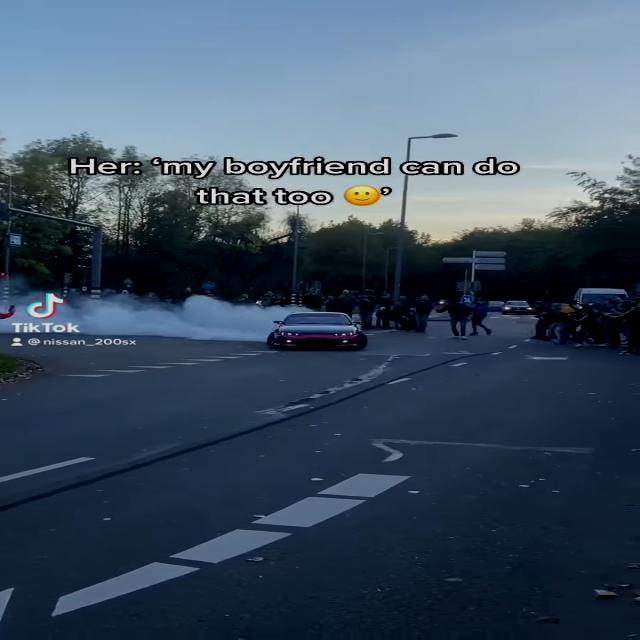car: (277, 310, 372, 355)
